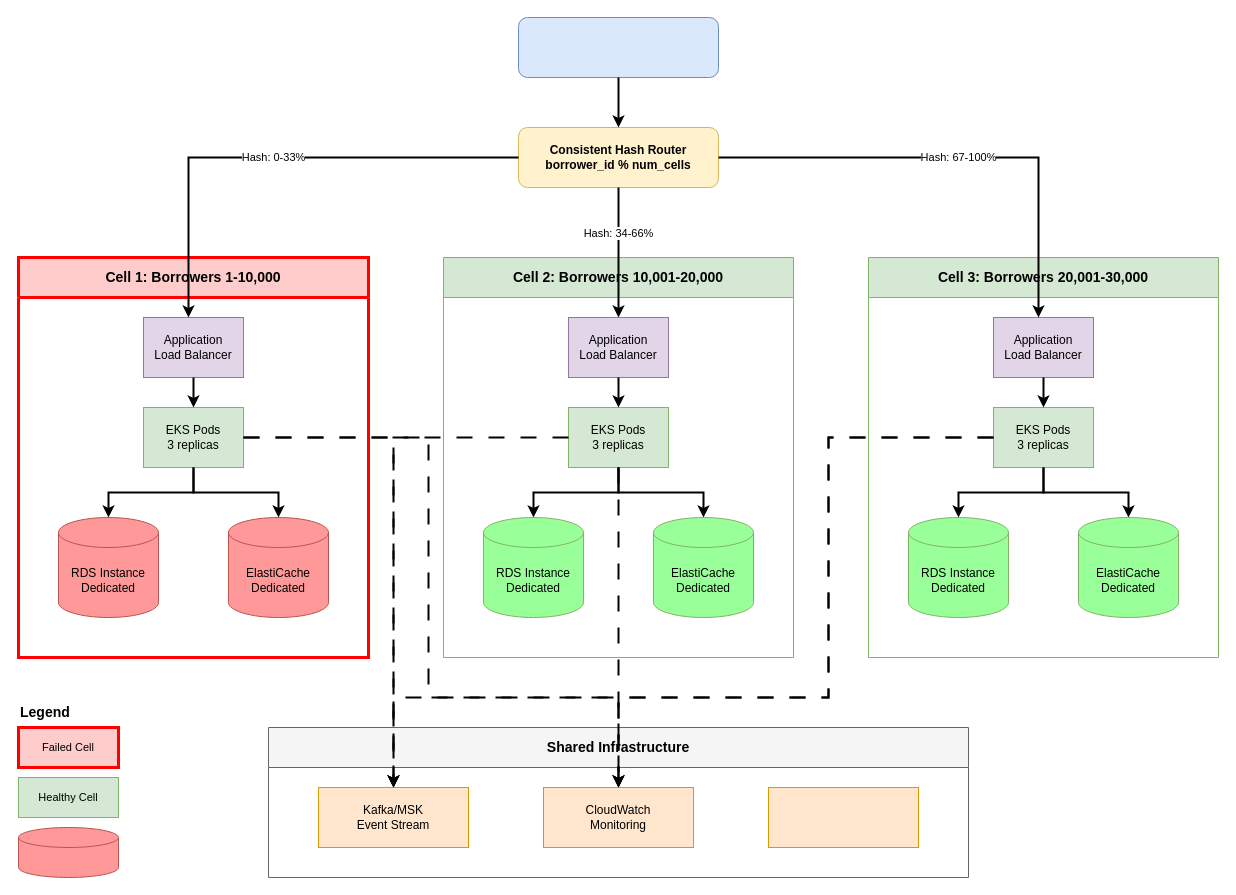
Image size: 1236x895. Some labels were removed from this diagram. Each missing label, with the box of its shape:
Client Requests: (518, 16, 718, 78)
Failed Resource: (18, 826, 118, 878)
IAM/KMS Security: (768, 786, 918, 848)
